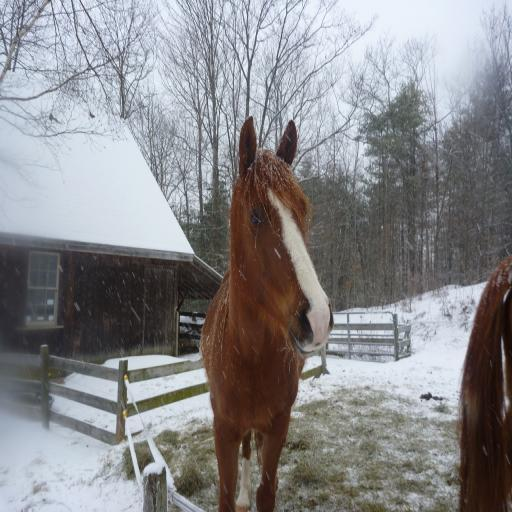horse: (196, 112, 336, 512), (454, 256, 512, 512)
